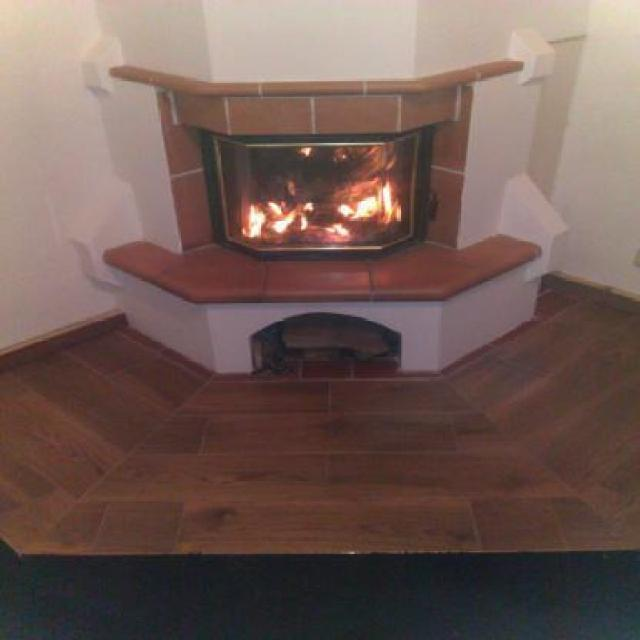Fire: (228, 129, 414, 248), (359, 195, 393, 214), (247, 208, 264, 238)
